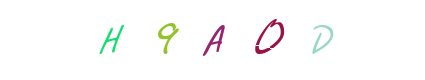0: (208, 0, 288, 80)
9: (127, 0, 207, 80)
A: (172, 0, 252, 80)
D: (216, 0, 296, 80)
H: (72, 0, 152, 80)
